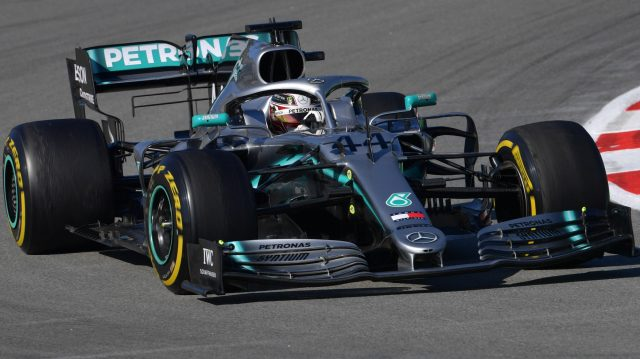f1_car: (1, 12, 640, 297)
